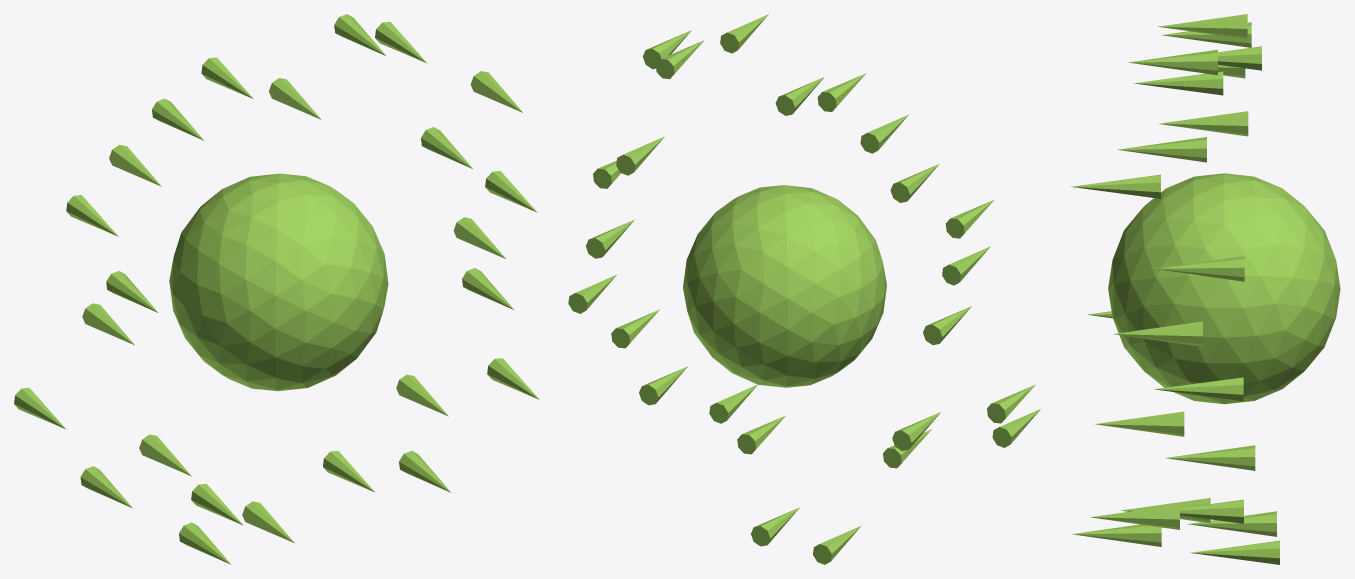
File: nature_172.glb
3 views of the same model, side by side, from view 1: azimuth 30°, elevation 25°; view 2: azimuth 150°, elevation 25°; view 3: azimuth 270°, elevation 25° (orthographic). The views are drawn at different scales.
Visible parts, largest first — view 1: world; view 2: world; view 3: world.
Part boxes in pixels (<box>): world: <box>14,14,539,564</box>; world: <box>568,14,1040,564</box>; world: <box>1070,14,1340,564</box>.
Bounding box in the file's own units: 2.22 × 2.35 × 1.05.
